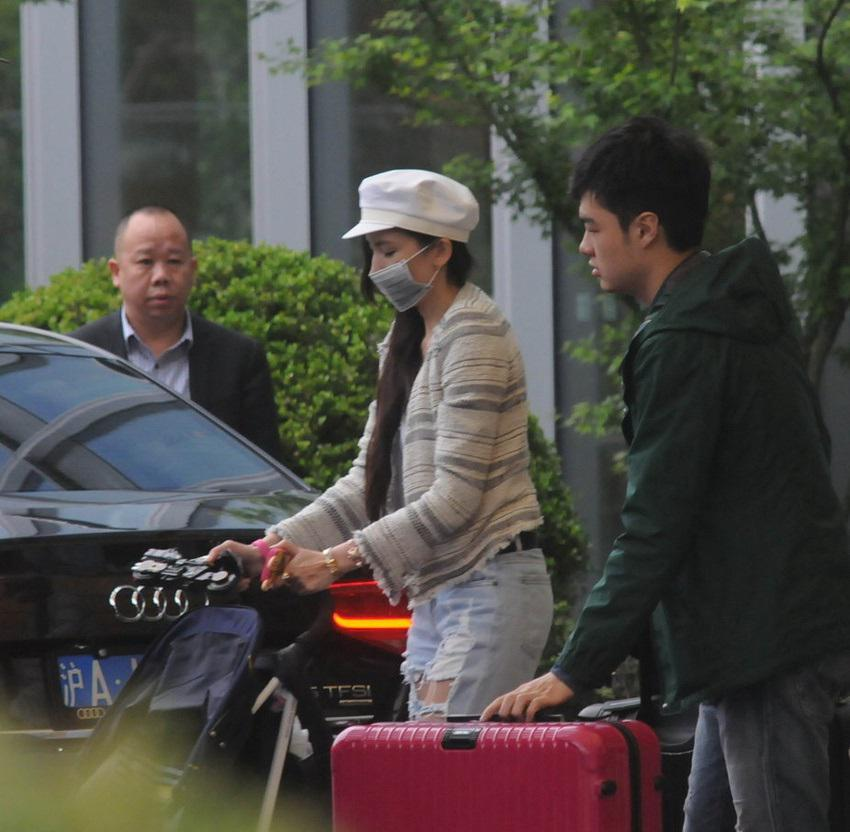NONE: (574, 207, 655, 289), (117, 239, 194, 315)
WRONG: (359, 232, 434, 307)
